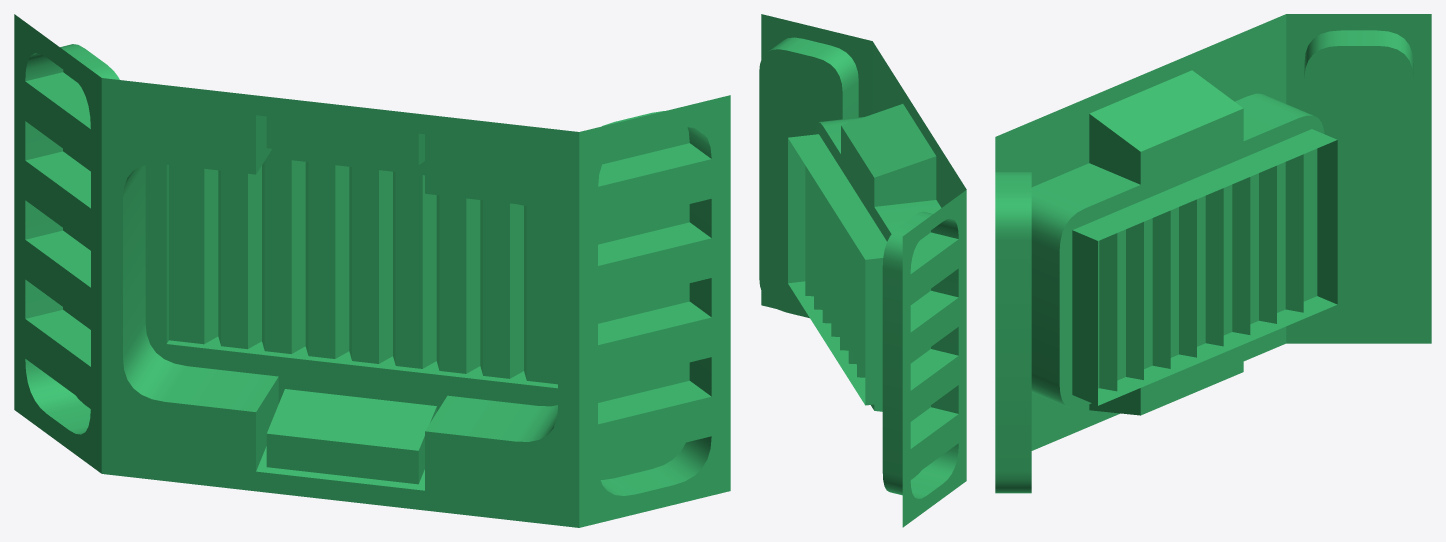
File: Wall_B_1x1m_TurnIn.FBX
3 renders of one model, left to right at view 1: azimuth 30°, elevation 25°; view 2: azimuth 150°, elevation 25°; view 3: azimuth 270°, elevation 25°, orthographic. The views are drawn at different scales.
Parts seen in each view (by area): view 1: Wall_B_1x1m_TurnIn; view 2: Wall_B_1x1m_TurnIn; view 3: Wall_B_1x1m_TurnIn.
Part boxes in pixels (x1,y1,x2,y2): Wall_B_1x1m_TurnIn: (14, 14, 730, 527); Wall_B_1x1m_TurnIn: (759, 14, 966, 527); Wall_B_1x1m_TurnIn: (995, 14, 1431, 493).
Size of the model in its own units: 120 by 100 by 120.
